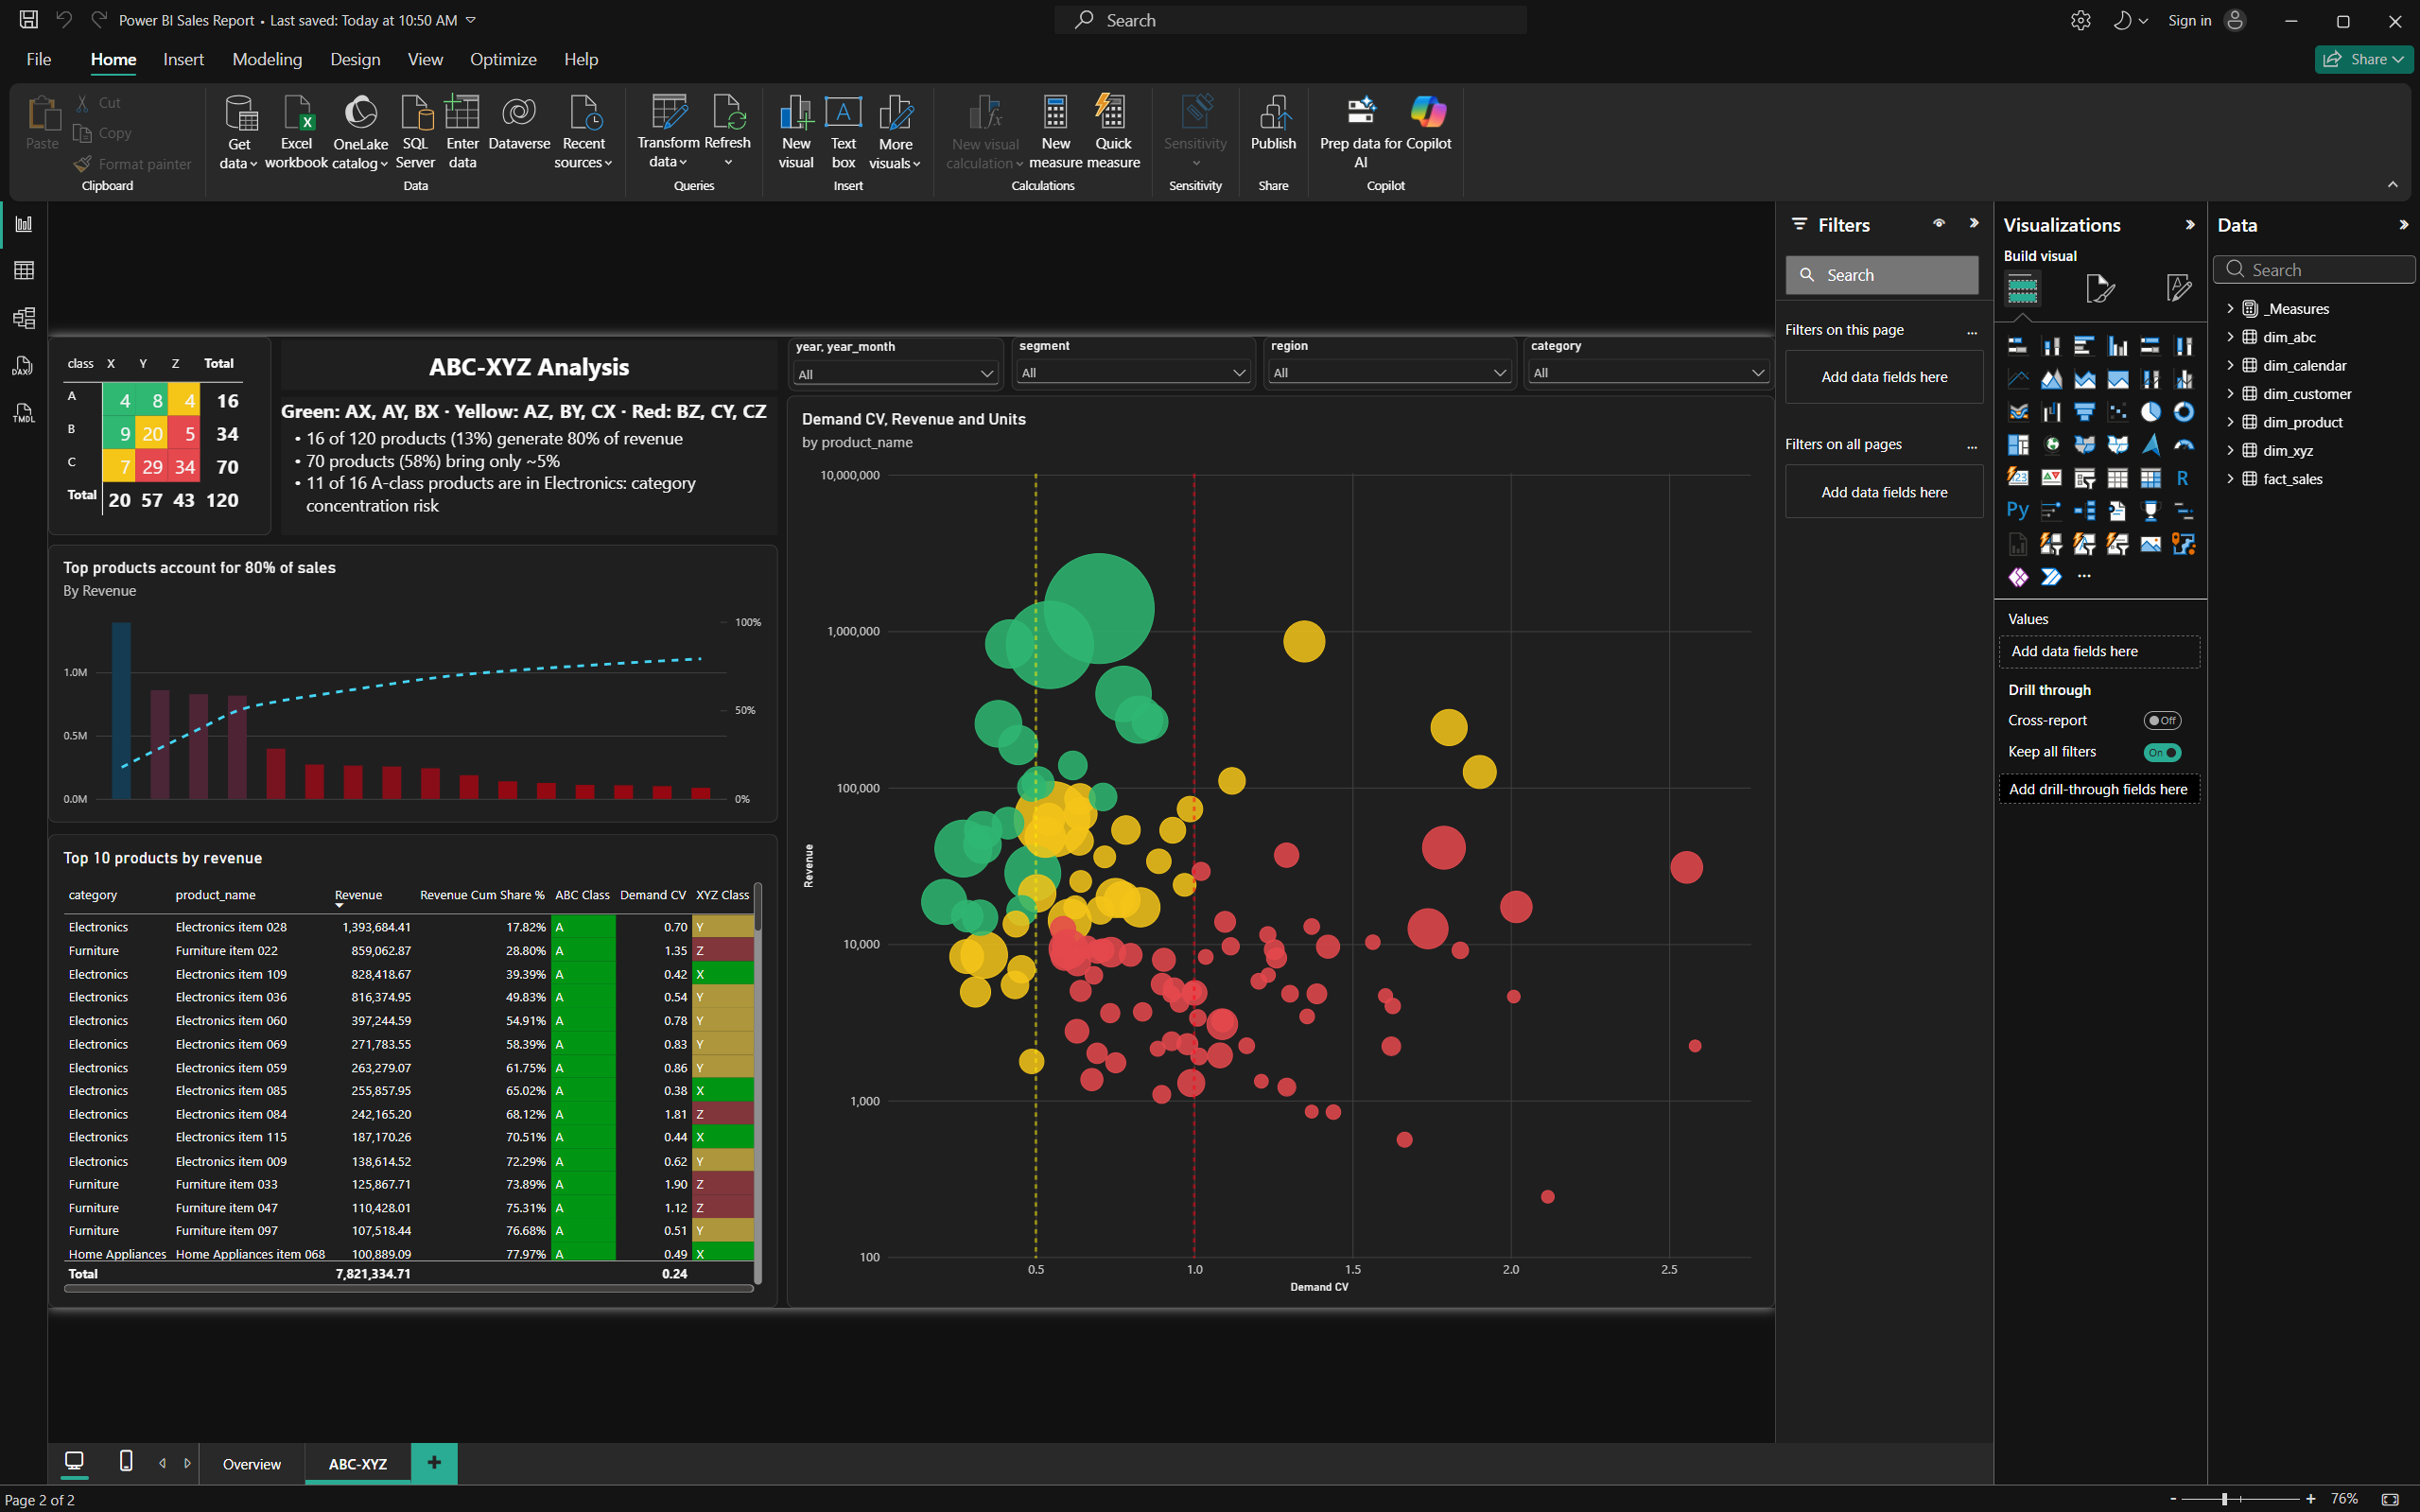

What the dashboard file says about the page in this screenshot:
{"tool":"powerbi","page":{"name":"ABC-XYZ","canvas":[1920,1080],"ordinal":1},"visuals":[{"type":"tableEx","title":"Top 10 products by revenue","fields":{"Values":["dim_product.category","dim_product.product_name","_Measures.Revenue","_Measures.Revenue Cum Share %","_Measures.ABC Class","_Measures.Demand CV","_Measures.XYZ Class"]},"box":[0,553.3,811.1,526.7],"z":0},{"type":"pivotTable","fields":{"Columns":["dim_xyz.class"],"Rows":["dim_abc.class"],"Values":["_Measures.Products in Cell"]},"box":[0,0,247.8,221.1],"z":1000},{"type":"lineClusteredColumnComboChart","title":"Top products account for 80% of sales","fields":{"Category":["dim_product.product_name"],"Y":["_Measures.Revenue (to 80%)"],"Y2":["_Measures.Cum Share (to 80%)"]},"box":[0,231.1,811.1,308.9],"z":2000},{"type":"slicer","fields":{"Values":["dim_product.category"]},"box":[1640,0,280,60],"z":3000},{"type":"slicer","fields":{"Values":["dim_customer.region"]},"box":[1351.1,0,282.2,60],"z":4000},{"type":"slicer","fields":{"Values":["dim_customer.segment"]},"box":[1071.1,0,272.2,60],"z":5000},{"type":"slicer","fields":{"Values":["dim_calendar.year","dim_calendar.year_month"]},"box":[822.2,1.1,240,58.9],"z":6000},{"type":"scatterChart","fields":{"Category":["dim_product.product_name"],"Size":["_Measures.Units"],"X":["_Measures.Demand CV"],"Y":["_Measures.Revenue"]},"box":[821.8,65.1,1098.5,1014.4],"z":7000},{"type":"textbox","title":"аааа","box":[258.9,66.7,552.2,44.4],"z":8000},{"type":"textbox","box":[258.9,100,552.2,121.1],"z":9000},{"type":"shape","box":[258.9,4.4,552.2,55.6],"z":10000}]}

Visuals, with their boxes on the page's 1920x1080 design canvas (x1, y1, x2, y2). These are canvas units, not pixel positions in the 2420x1512 screenshot, which may show the page scaled, cropped or inside an application window:
"Top 10 products by revenue" tableEx: [x1=0, y1=553, x2=811, y2=1080]
pivotTable - dim_xyz.class x dim_abc.class: [x1=0, y1=0, x2=248, y2=221]
"Top products account for 80% of sales" lineClusteredColumnComboChart: [x1=0, y1=231, x2=811, y2=540]
slicer - dim_product.category: [x1=1640, y1=0, x2=1920, y2=60]
slicer - dim_customer.region: [x1=1351, y1=0, x2=1633, y2=60]
slicer - dim_customer.segment: [x1=1071, y1=0, x2=1343, y2=60]
slicer - dim_calendar.year x dim_calendar.year_month: [x1=822, y1=1, x2=1062, y2=60]
scatterChart - dim_product.product_name x _Measures.Units: [x1=822, y1=65, x2=1920, y2=1080]
"аааа" textbox: [x1=259, y1=67, x2=811, y2=111]
textbox: [x1=259, y1=100, x2=811, y2=221]
shape: [x1=259, y1=4, x2=811, y2=60]
